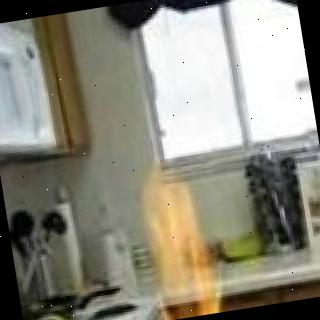fire: (129, 162, 285, 320)
